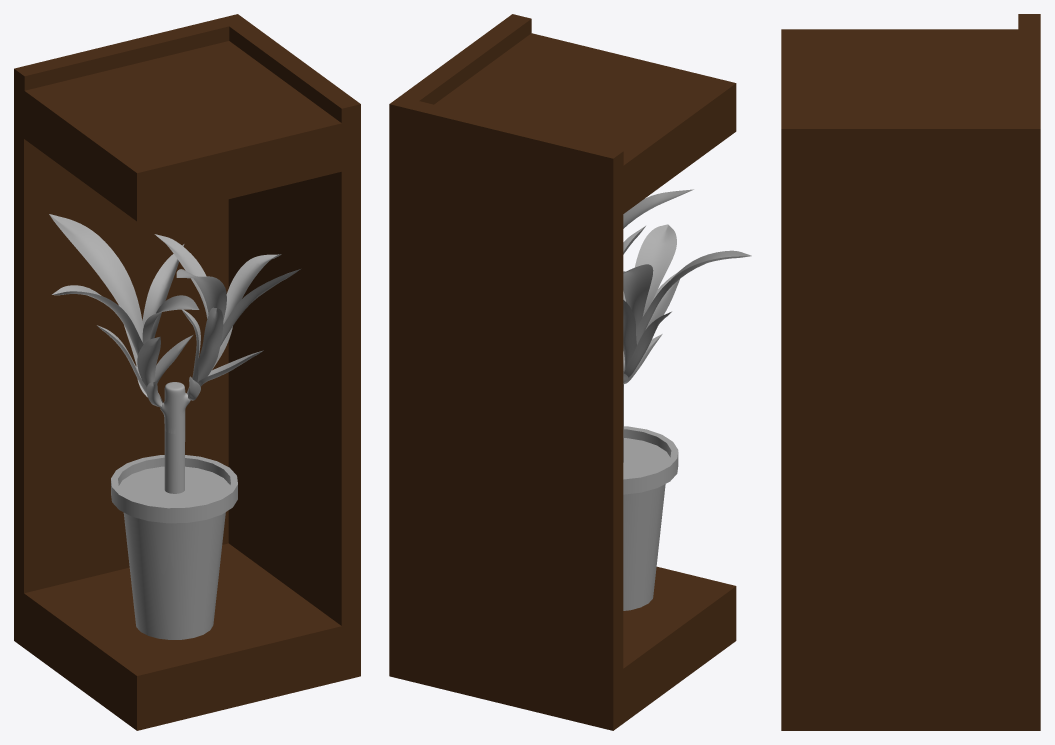
The model's file is FlowerShelf.fbx.
3 views of the same model, side by side, from view 1: azimuth 30°, elevation 25°; view 2: azimuth 150°, elevation 25°; view 3: azimuth 270°, elevation 25° (orthographic). The views are drawn at different scales.
Parts seen in each view (by area): view 1: Flower_Shelf, Plant; view 2: Flower_Shelf, Plant; view 3: Flower_Shelf.
Part boxes in pixels (left/top/right/bottom): Flower_Shelf: left=14, top=14, right=360, bottom=730; Plant: left=49, top=214, right=300, bottom=639; Flower_Shelf: left=389, top=14, right=736, bottom=730; Plant: left=623, top=189, right=751, bottom=610; Flower_Shelf: left=781, top=14, right=1040, bottom=730.
Size of the model in its own units: 169 by 336 by 131.
